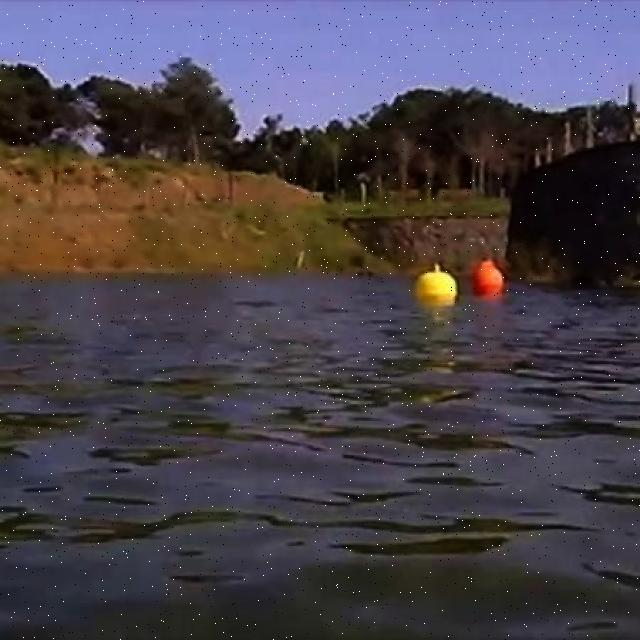buoy: (416, 264, 456, 305), (472, 260, 504, 296)
